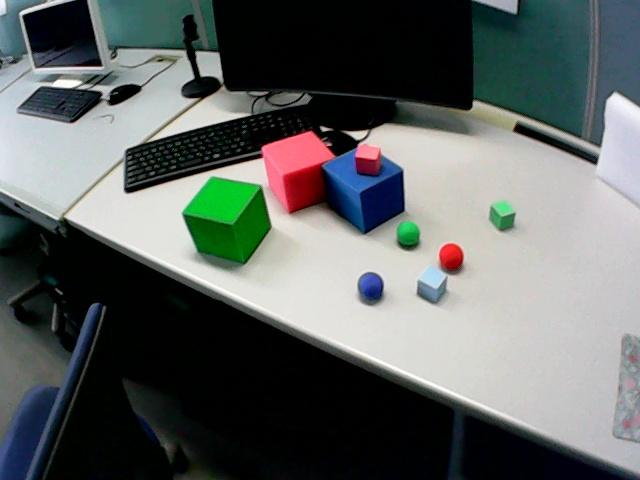blue_block: (322, 149, 404, 232), (417, 267, 446, 302)
red_block: (262, 132, 333, 212), (355, 145, 380, 175)
